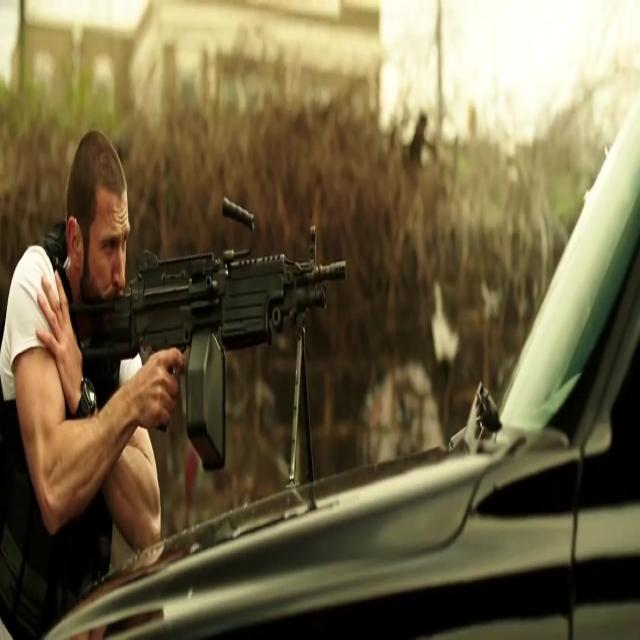Weapon: (56, 187, 370, 447)
